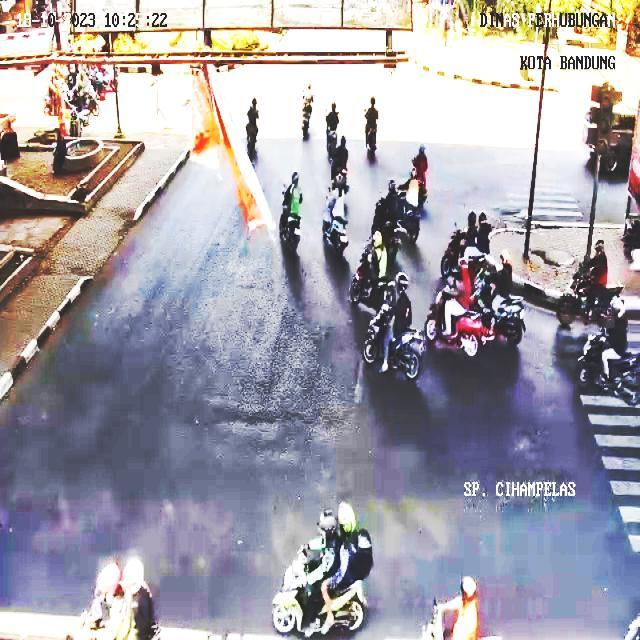motorcycle: (578, 333, 640, 406), (361, 288, 394, 364), (389, 329, 426, 380)
motorcyclist: (272, 502, 374, 637), (424, 246, 526, 356), (74, 554, 158, 639), (371, 176, 421, 264), (571, 240, 610, 322), (381, 272, 412, 372), (349, 240, 389, 308), (601, 288, 628, 378), (279, 171, 302, 249), (322, 216, 349, 254), (590, 240, 608, 296), (365, 98, 379, 161), (246, 98, 259, 163), (371, 230, 388, 278), (332, 136, 349, 179), (301, 95, 312, 141), (326, 102, 339, 132)
